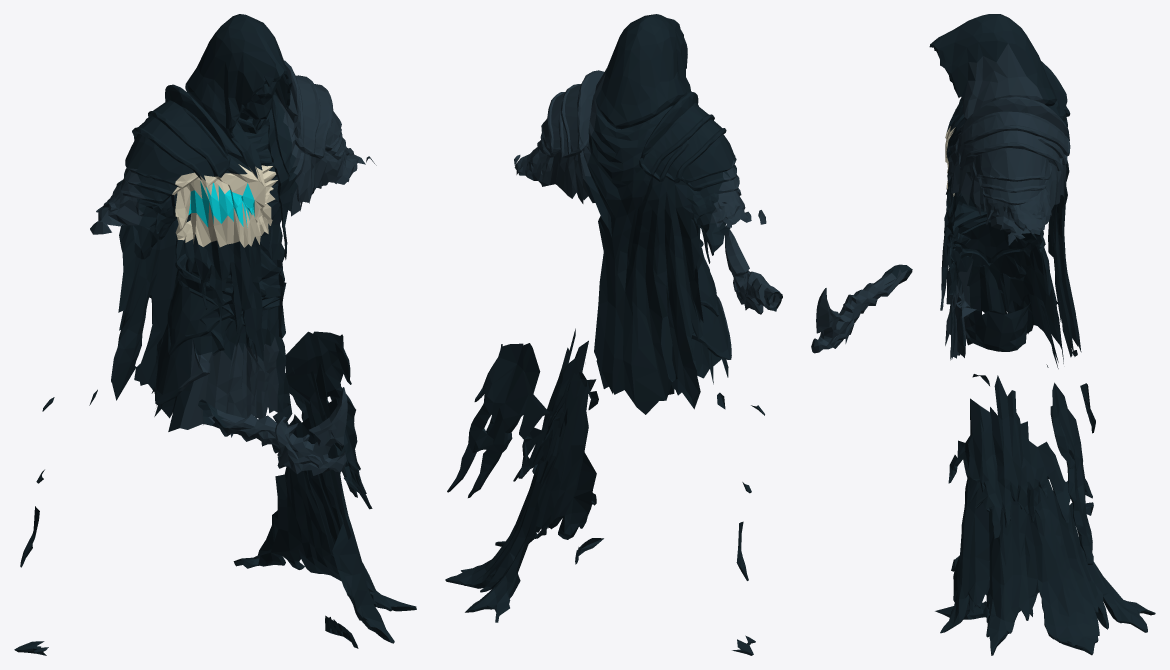
The model's file is reaper_torso.obj.
3 renders of one model, left to right at view 1: azimuth 30°, elevation 25°; view 2: azimuth 150°, elevation 25°; view 3: azimuth 270°, elevation 25°, orthographic. The views are drawn at different scales.
Visible parts, largest first — view 1: Reaper_Torso; view 2: Reaper_Torso; view 3: Reaper_Torso.
Boxes of the visible parts, x1,y1,x2,y2 form: Reaper_Torso: [14, 14, 416, 655]; Reaper_Torso: [445, 14, 782, 655]; Reaper_Torso: [811, 14, 1155, 655].
Size of the model in its own units: 1.17 by 2.05 by 1.13.
